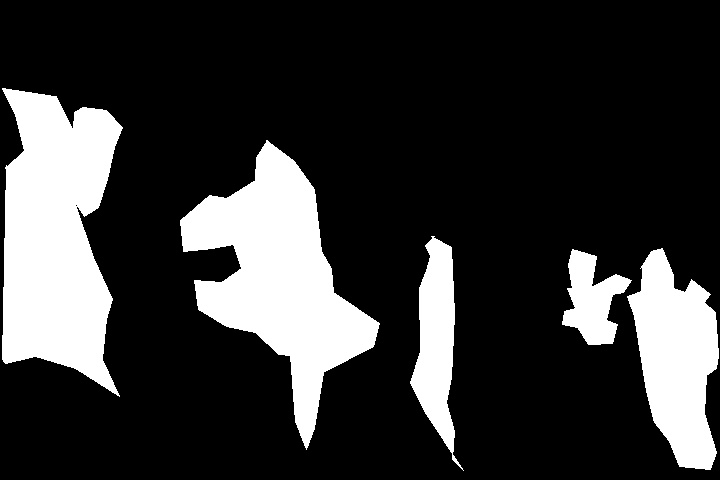fire: (632, 290, 716, 430), (283, 182, 342, 280)
